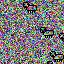sheep: (22, 1, 38, 14), (40, 27, 54, 38), (50, 51, 64, 62)
